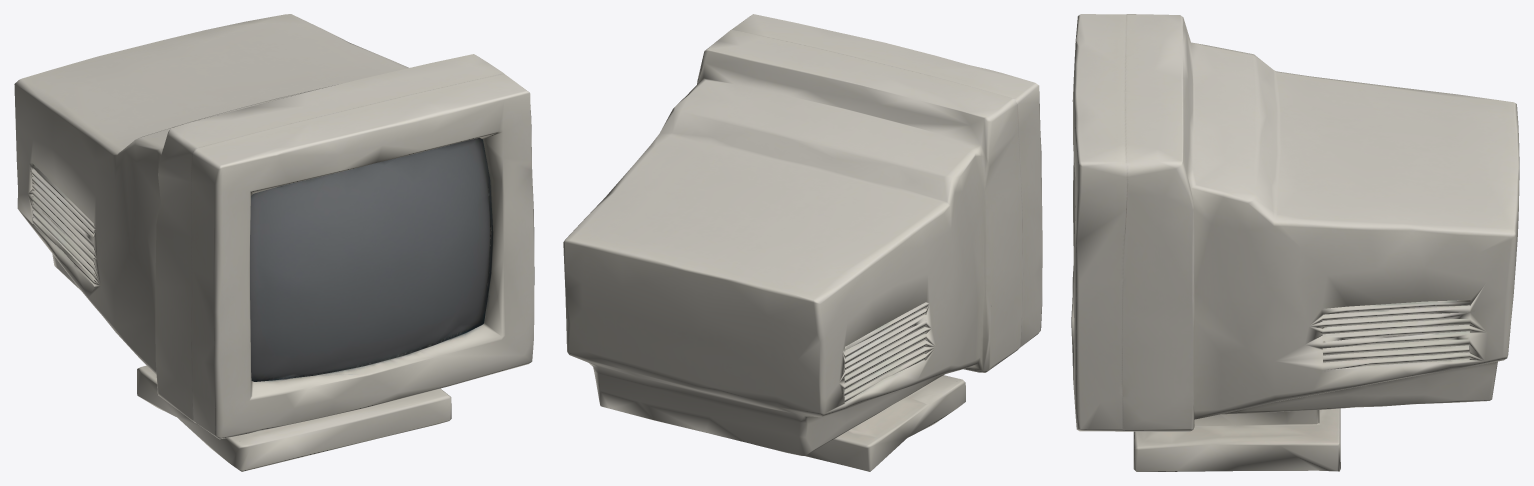
File: SYS_CRT_v001_RAW.glb.glb
3 views of the same model, side by side, from view 1: azimuth 30°, elevation 25°; view 2: azimuth 150°, elevation 25°; view 3: azimuth 270°, elevation 25° (orthographic). The views are drawn at different scales.
Visible parts, largest first — view 1: tripo_node_a8e444fc-2f7c-481d-81a0-3ca659d80c97; view 2: tripo_node_a8e444fc-2f7c-481d-81a0-3ca659d80c97; view 3: tripo_node_a8e444fc-2f7c-481d-81a0-3ca659d80c97.
Part boxes in pixels (left/top/right/bottom): tripo_node_a8e444fc-2f7c-481d-81a0-3ca659d80c97: left=14, top=14, right=534, bottom=471; tripo_node_a8e444fc-2f7c-481d-81a0-3ca659d80c97: left=563, top=14, right=1042, bottom=471; tripo_node_a8e444fc-2f7c-481d-81a0-3ca659d80c97: left=1071, top=14, right=1519, bottom=471.
Bounding box in the file's own units: 0.8075 × 0.8121 × 0.9801.
1 material, 1 textured.
